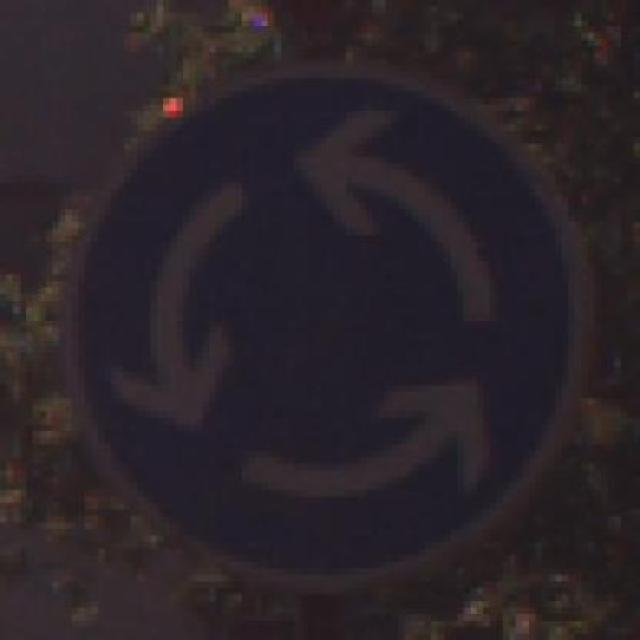Round-About: (32, 32, 628, 602)
